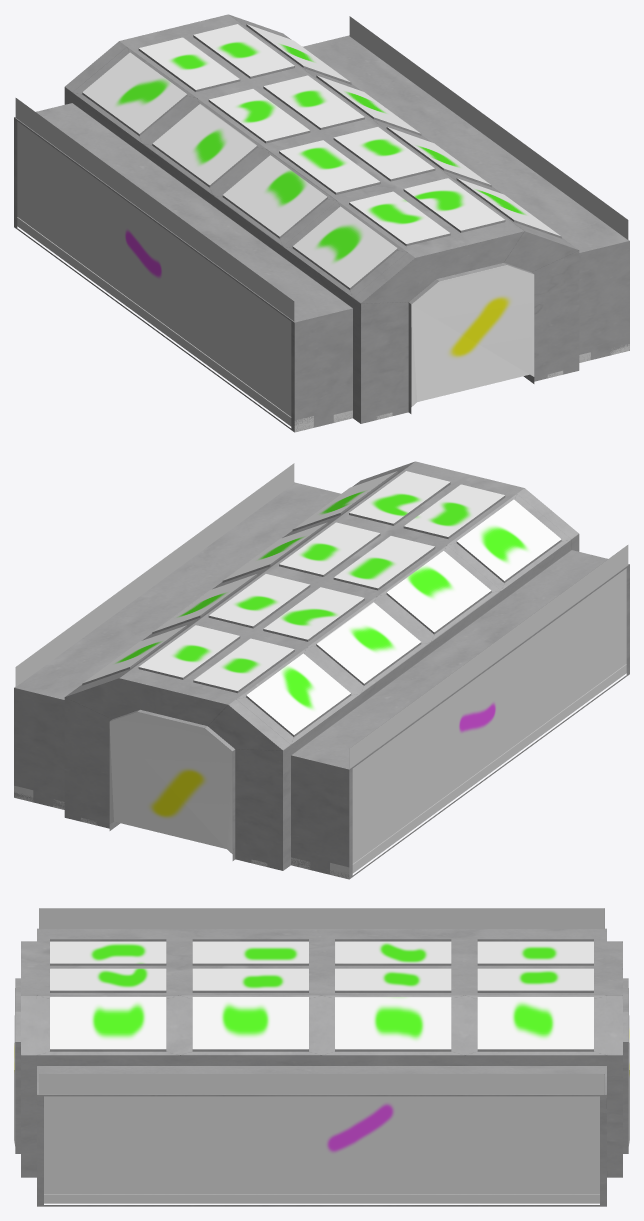
File: Build5.obj
3 renders of one model, top to bottom at view 1: azimuth 30°, elevation 25°; view 2: azimuth 150°, elevation 25°; view 3: azimuth 270°, elevation 25°, orthographic.
Parts seen in each view (by area): view 1: Dynamic_Wall_Dynamic_Image_0; view 2: Dynamic_Wall_Dynamic_Image_0; view 3: Dynamic_Wall_Dynamic_Image_0.
Part boxes in pixels (<box>): Dynamic_Wall_Dynamic_Image_0: <box>14,14,629,432</box>; Dynamic_Wall_Dynamic_Image_0: <box>14,461,629,879</box>; Dynamic_Wall_Dynamic_Image_0: <box>14,908,629,1206</box>.
Bounding box in the file's own units: 9.04 × 3.99 × 14.16.
Materials: 1 (1 with a texture image).
